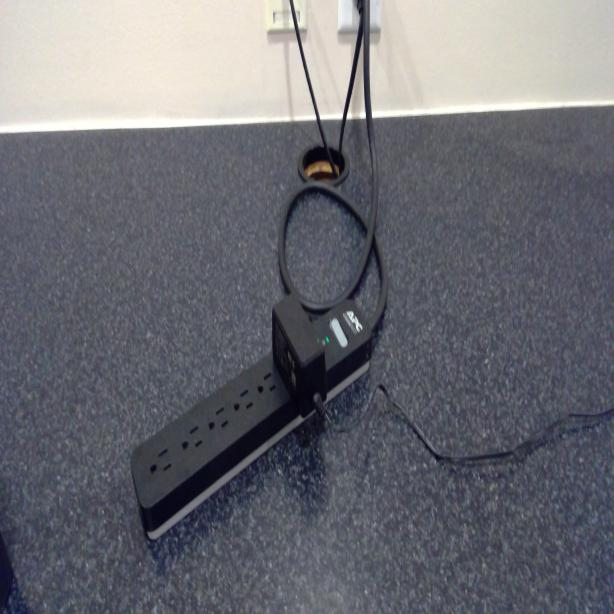typeb: (204, 394, 234, 436), (145, 441, 175, 479), (176, 422, 205, 458), (253, 366, 281, 403), (229, 383, 257, 418)
